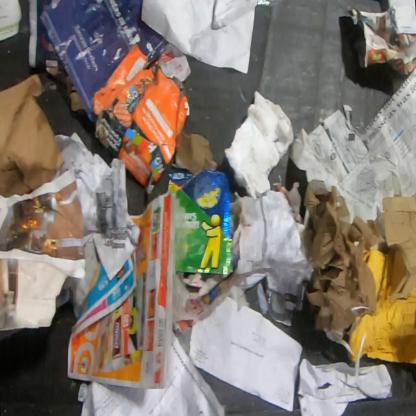cardboard: (90, 43, 191, 196), (0, 73, 66, 199), (347, 247, 415, 365), (223, 89, 295, 200), (382, 194, 415, 305), (44, 34, 86, 115), (171, 130, 218, 176), (387, 0, 415, 36)
soft_plastic: (166, 168, 234, 278), (257, 0, 282, 7)
